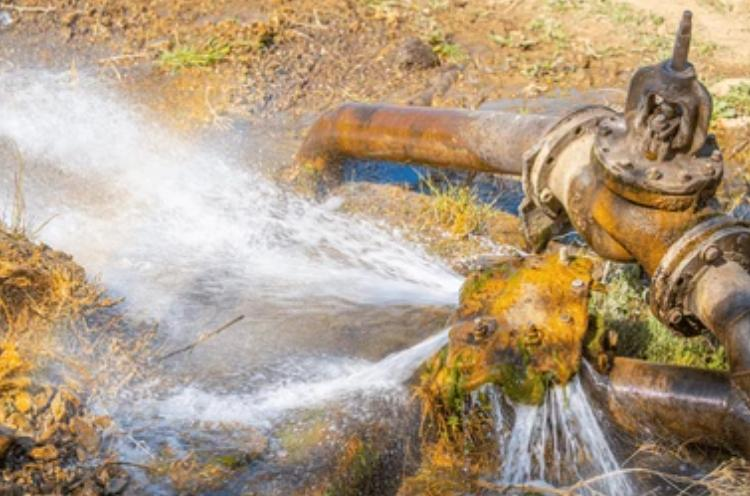pipe burst: (0, 68, 471, 311), (488, 355, 636, 496), (328, 321, 457, 390)
water accumulation: (105, 316, 449, 496)
